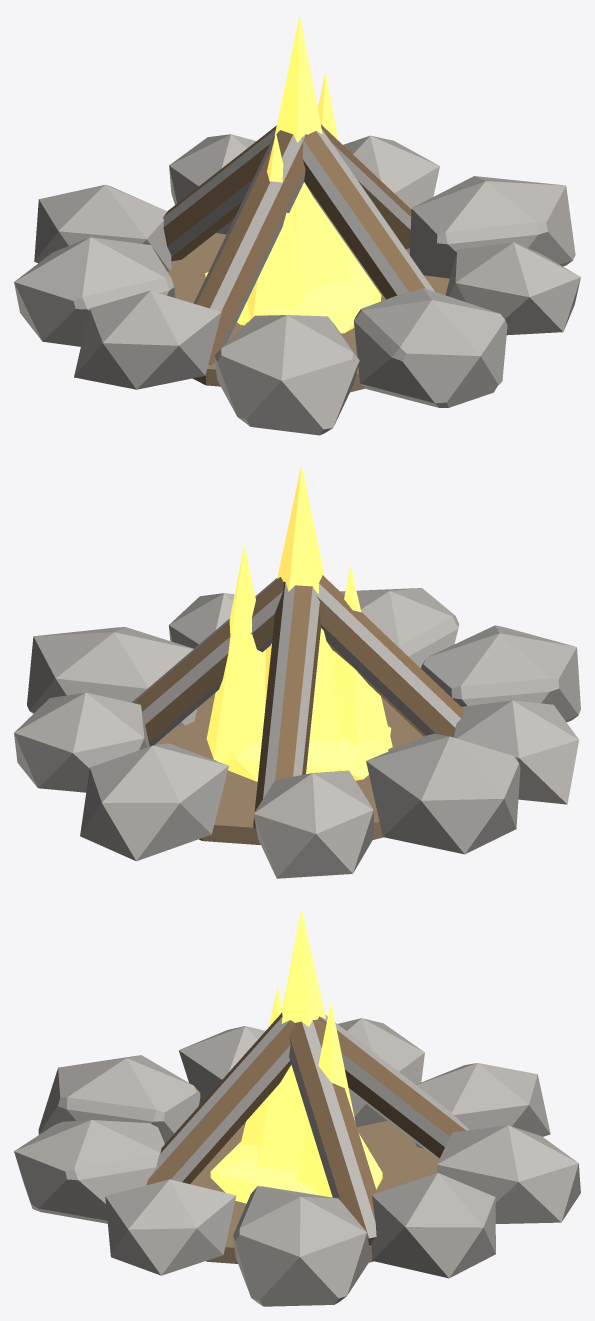
Rendered from asset_hearth_lit.glb.
3 renders of one model, top to bottom at view 1: azimuth 30°, elevation 25°; view 2: azimuth 150°, elevation 25°; view 3: azimuth 270°, elevation 25°, orthographic. The views are drawn at different scales.
Parts seen in each view (by area): view 1: asset_hearth_lit; view 2: asset_hearth_lit; view 3: asset_hearth_lit.
Boxes of the visible parts, box(x1,y1,x2,y2) form: asset_hearth_lit: box(14, 15, 580, 435); asset_hearth_lit: box(14, 465, 580, 878); asset_hearth_lit: box(14, 907, 580, 1306).
Size of the model in its own units: 0.9597 by 0.54 by 0.9642.
